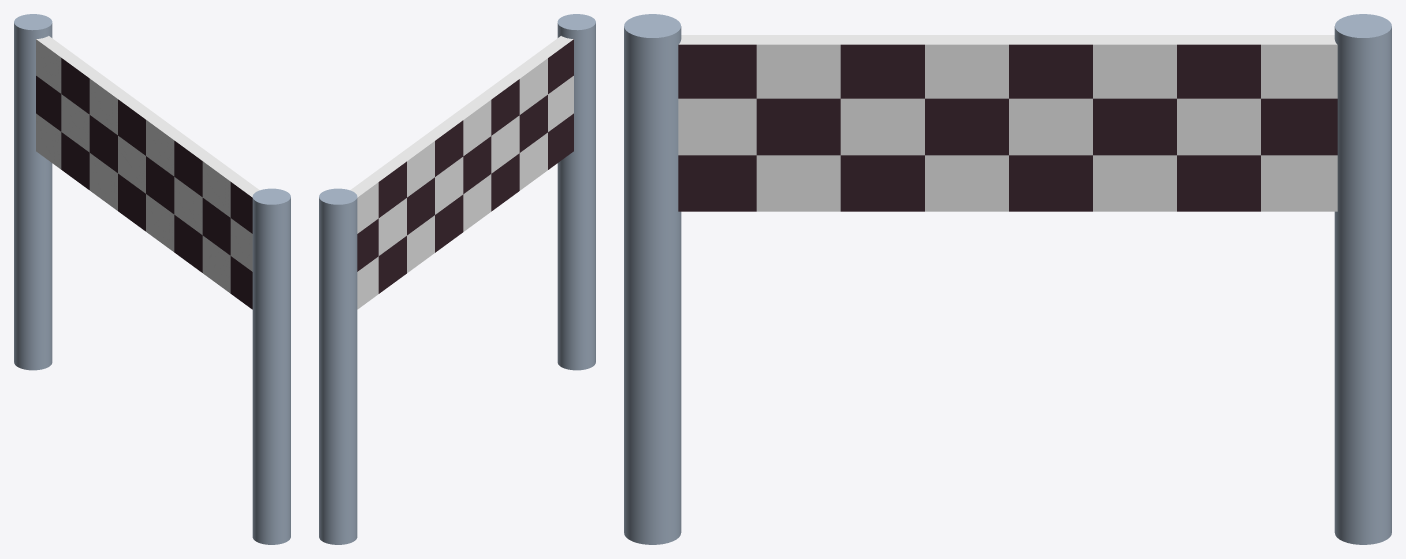
The model's file is Finish.fbx.
The picture shows the model from 3 angles, left to right: view 1: azimuth 30°, elevation 25°; view 2: azimuth 150°, elevation 25°; view 3: azimuth 270°, elevation 25°; orthographic projection. The views are drawn at different scales.
Visible parts, largest first — view 1: Cube.001; view 2: Cube.001; view 3: Cube.001.
Boxes of the visible parts, box(x1,y1,x2,y2) form: Cube.001: box(14, 14, 290, 544); Cube.001: box(319, 14, 595, 544); Cube.001: box(624, 14, 1391, 544).
Bounding box in the file's own units: 62.01 × 607 × 833.
